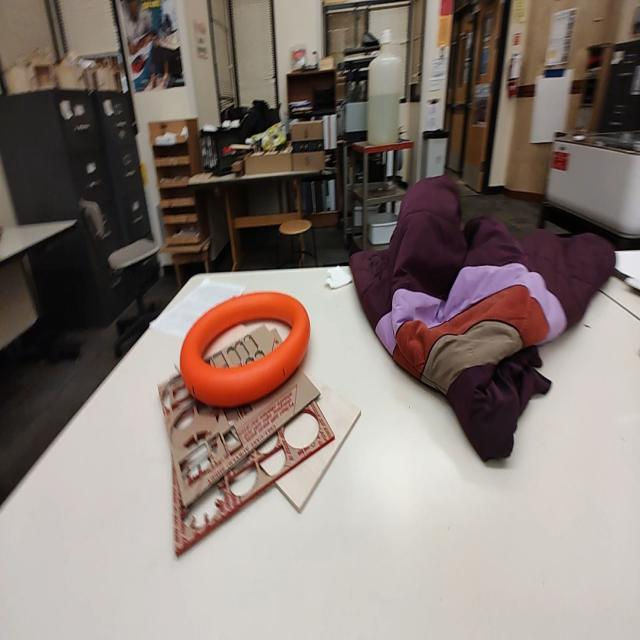note: (179, 290, 311, 408)
